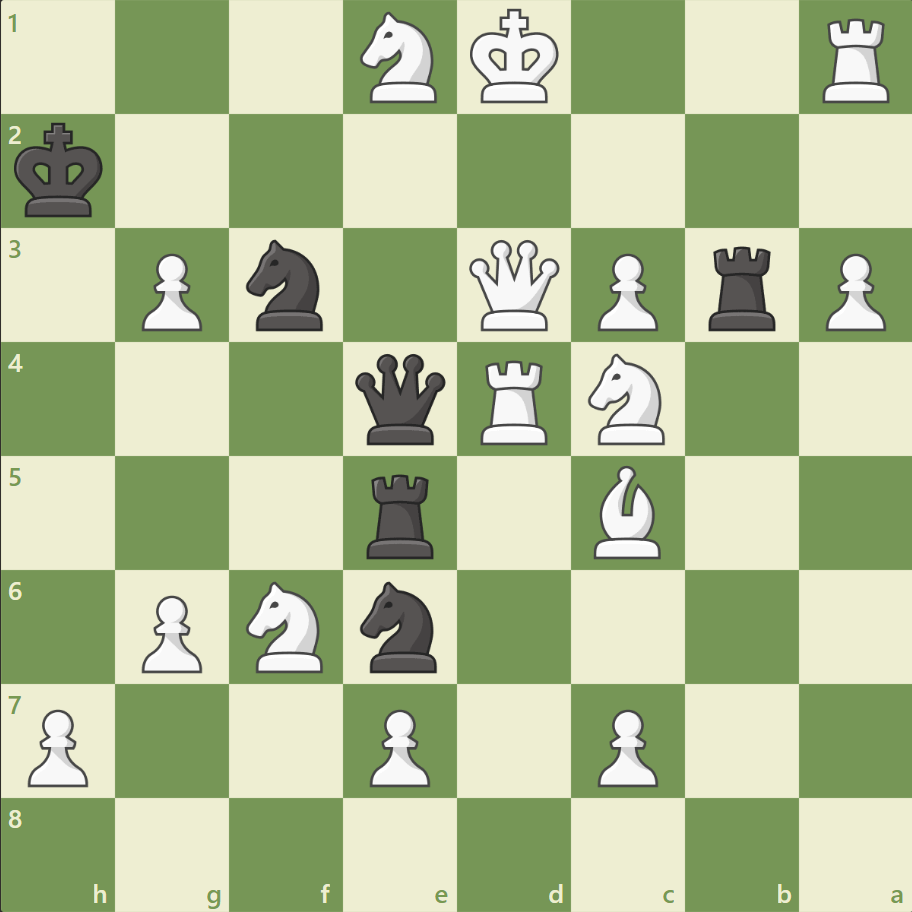B: (585, 460, 669, 563)
K: (465, 4, 565, 112)
N: (351, 7, 449, 110), (238, 575, 335, 677), (579, 348, 676, 450)
P: (20, 700, 95, 791), (133, 586, 208, 677), (133, 246, 208, 337), (588, 700, 662, 791), (361, 700, 435, 791), (815, 246, 889, 337), (588, 246, 662, 337)
Q: (464, 236, 563, 335)
R: (473, 352, 556, 449), (814, 12, 897, 109)
k: (11, 117, 111, 225)
n: (351, 575, 449, 677), (238, 234, 335, 337)
q: (351, 349, 450, 449)
r: (700, 239, 783, 336), (360, 466, 442, 563)
